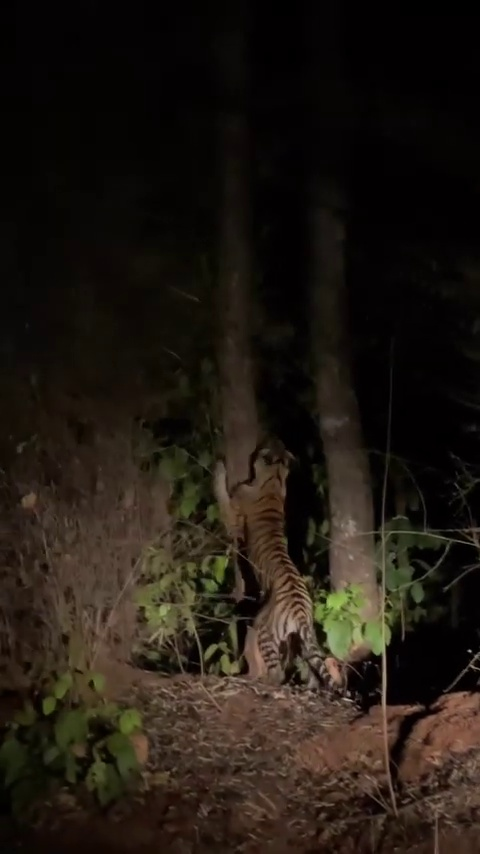Tiger: (212, 429, 382, 701)
